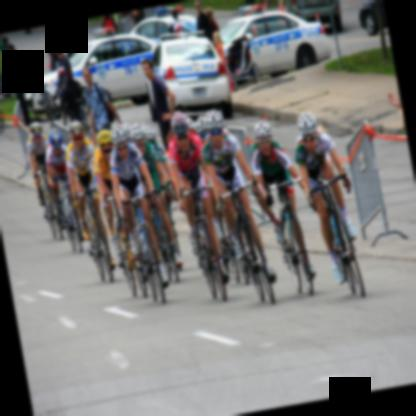backpack: (105, 89, 114, 121)
